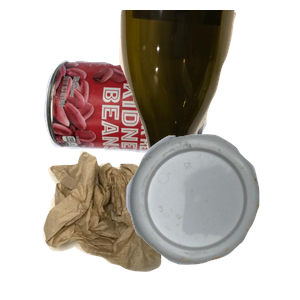glass: (117, 10, 300, 190)
metal: (41, 58, 240, 207)
plastic: (124, 132, 300, 300)
trash: (40, 138, 280, 300)
